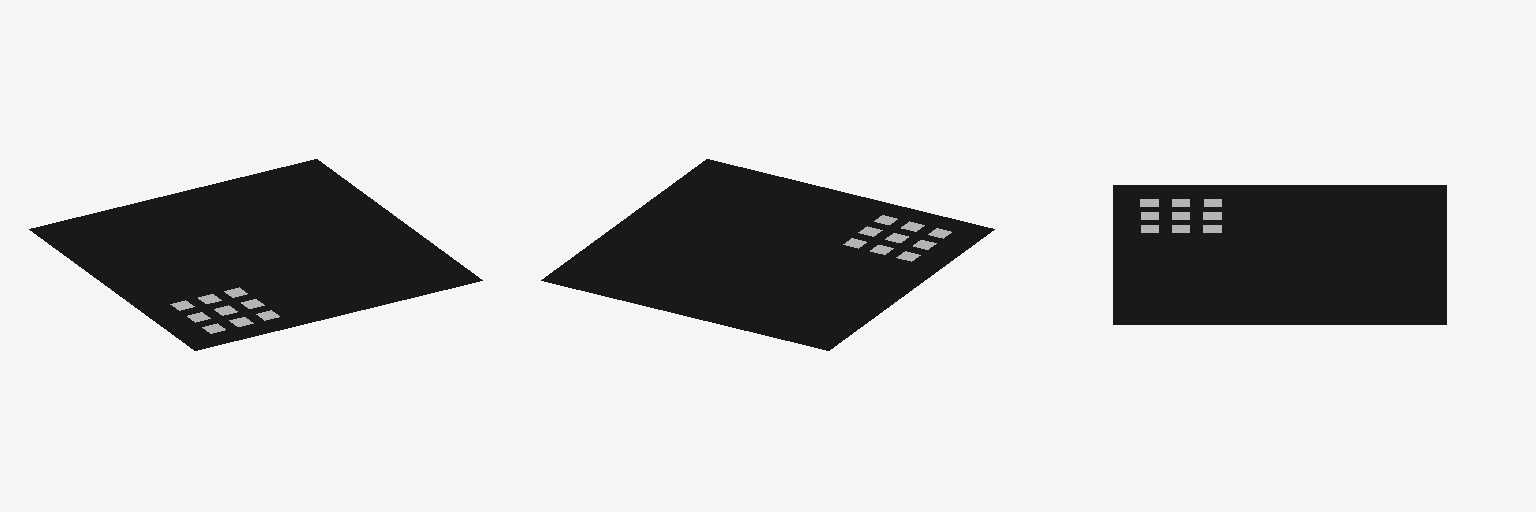
3 views of the same model, side by side, from view 1: azimuth 30°, elevation 25°; view 2: azimuth 150°, elevation 25°; view 3: azimuth 270°, elevation 25° (orthographic).
Parts seen in each view (by area): view 1: Plane; view 2: Plane; view 3: Plane.
Part boxes in pixels (x1,y1,x2,y2): Plane: (29, 159, 482, 350); Plane: (541, 159, 994, 350); Plane: (1113, 185, 1446, 324).
Bounding box in the file's own units: 100 × 0.6888 × 100.